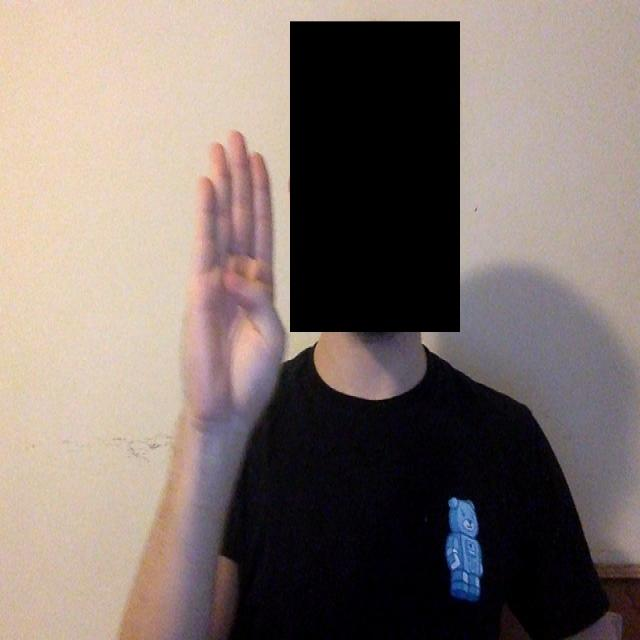B: (150, 90, 289, 465)
